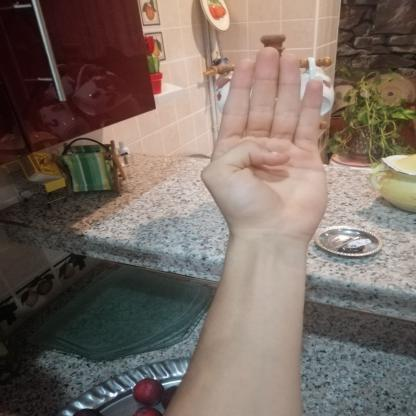KAAF: (187, 37, 348, 249)
